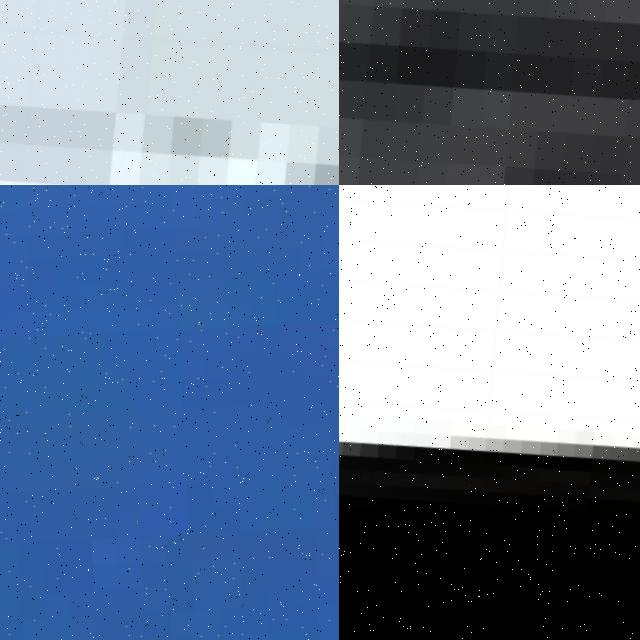drone: (339, 185, 640, 640), (0, 0, 339, 185), (339, 0, 640, 185)
